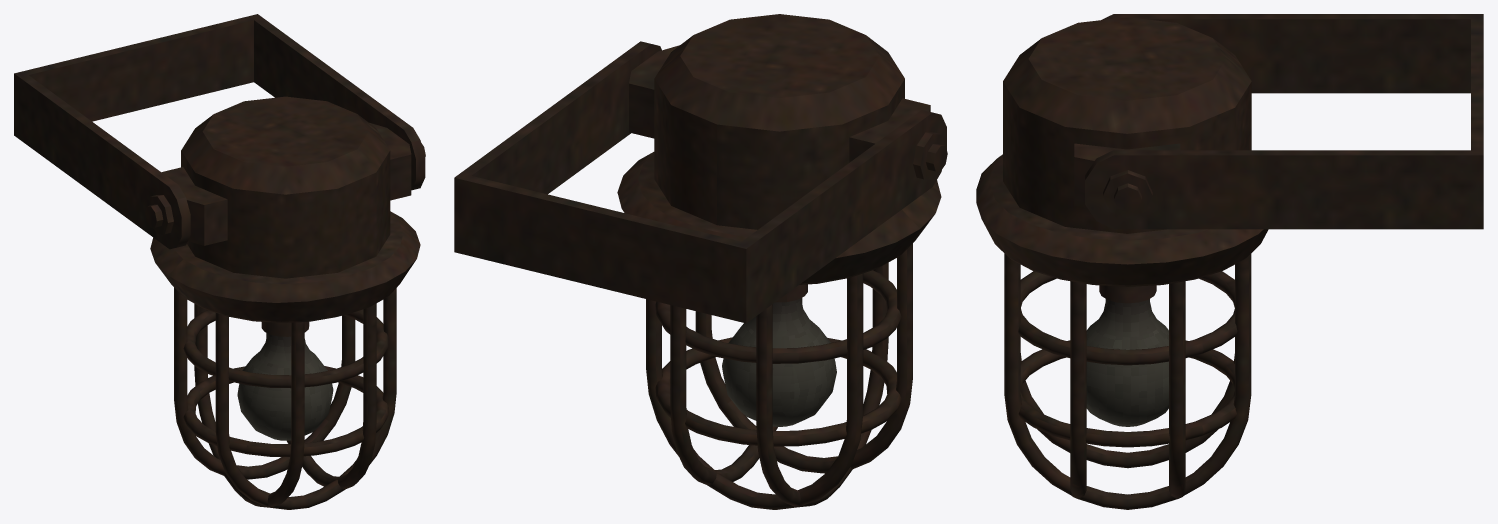
File: lamp_mx_1_off.obj
3 renders of one model, left to right at view 1: azimuth 30°, elevation 25°; view 2: azimuth 150°, elevation 25°; view 3: azimuth 270°, elevation 25°, orthographic. The views are drawn at different scales.
Visible parts, largest first — view 1: lamp_mx_1_off; view 2: lamp_mx_1_off; view 3: lamp_mx_1_off.
Part boxes in pixels (x1=…): lamp_mx_1_off: x1=14, y1=14, x2=425, y2=509; lamp_mx_1_off: x1=454, y1=14, x2=947, y2=509; lamp_mx_1_off: x1=976, y1=14, x2=1483, y2=509.
Bounding box in the file's own units: 0.2245 × 0.288 × 0.308.
